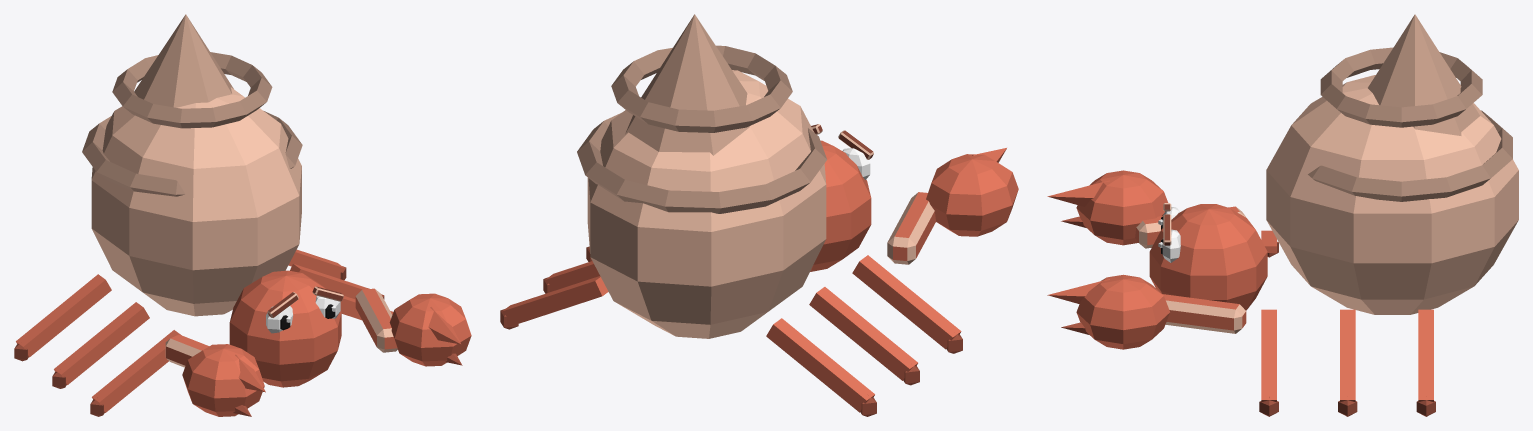
The model's file is einsiedler.glb.
3 views of the same model, side by side, from view 1: azimuth 30°, elevation 25°; view 2: azimuth 150°, elevation 25°; view 3: azimuth 270°, elevation 25° (orthographic). The views are drawn at different scales.
Visible parts, largest first — view 1: body-m, leg-0-m, leg-1-m; view 2: body-m, leg-0-m, leg-1-m; view 3: body-m, leg-1-m.
Part boxes in pixels (bbox=[...]): body-m: bbox=[82, 14, 471, 416]; leg-0-m: bbox=[14, 274, 181, 416]; leg-1-m: bbox=[288, 249, 393, 320]; body-m: bbox=[577, 14, 1018, 338]; leg-0-m: bbox=[766, 255, 962, 416]; leg-1-m: bbox=[500, 246, 608, 329]; body-m: bbox=[1047, 14, 1518, 349]; leg-1-m: bbox=[1259, 309, 1435, 416].
Bounding box in the file's own units: 1.77 × 1.59 × 2.1.
